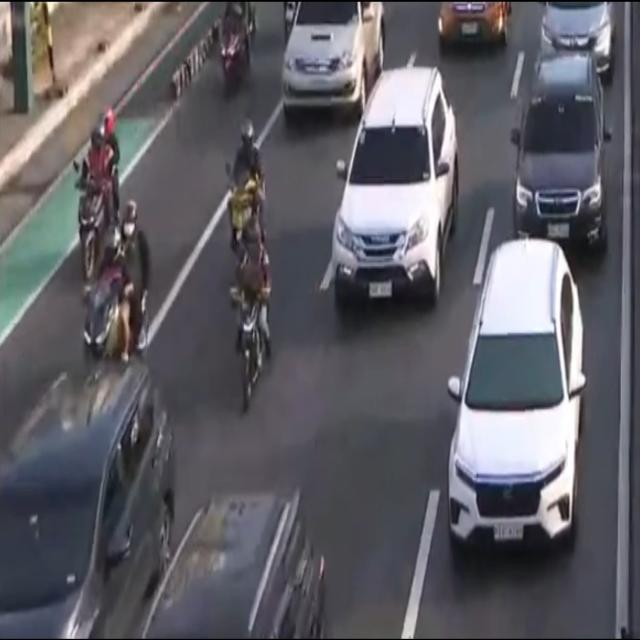Motorcycle: (81, 203, 151, 377), (77, 104, 122, 283), (236, 212, 275, 413), (230, 121, 268, 264)
SUV: (0, 375, 175, 640), (448, 240, 582, 565), (331, 67, 458, 323), (132, 487, 322, 640), (514, 48, 607, 242)
